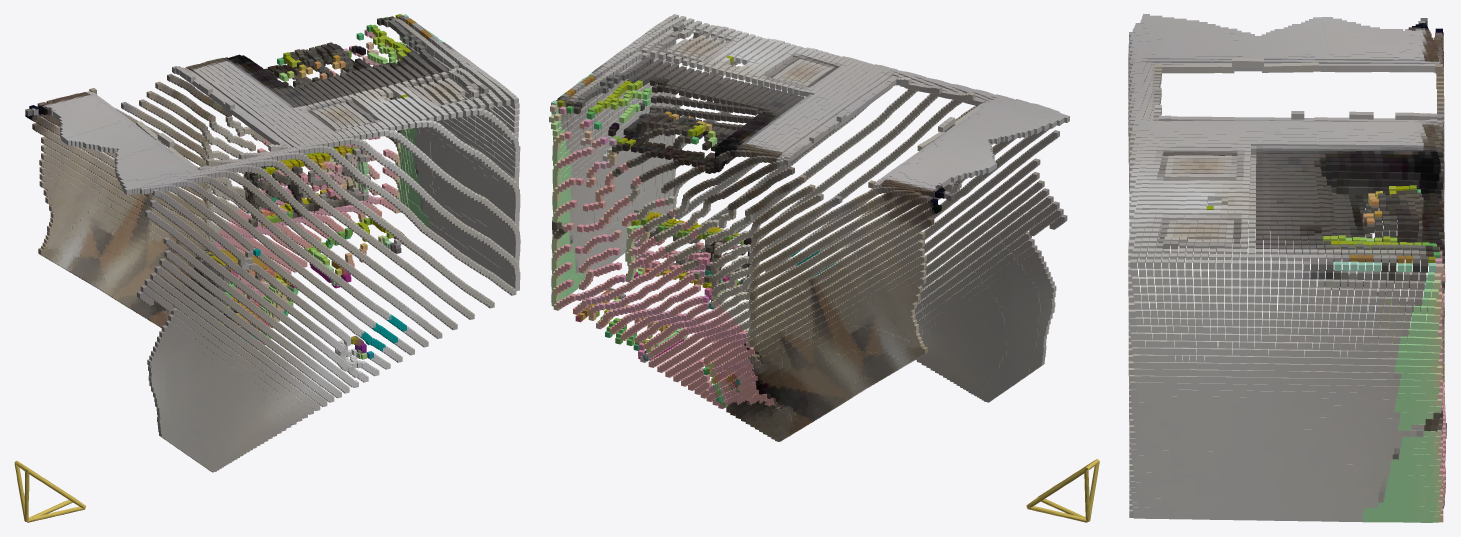
The picture shows the model from 3 angles, left to right: view 1: azimuth 30°, elevation 25°; view 2: azimuth 150°, elevation 25°; view 3: azimuth 270°, elevation 25°; orthographic projection. The views are drawn at different scales.
Bounding box in the file's own units: 4.89 × 3.63 × 2.24.
